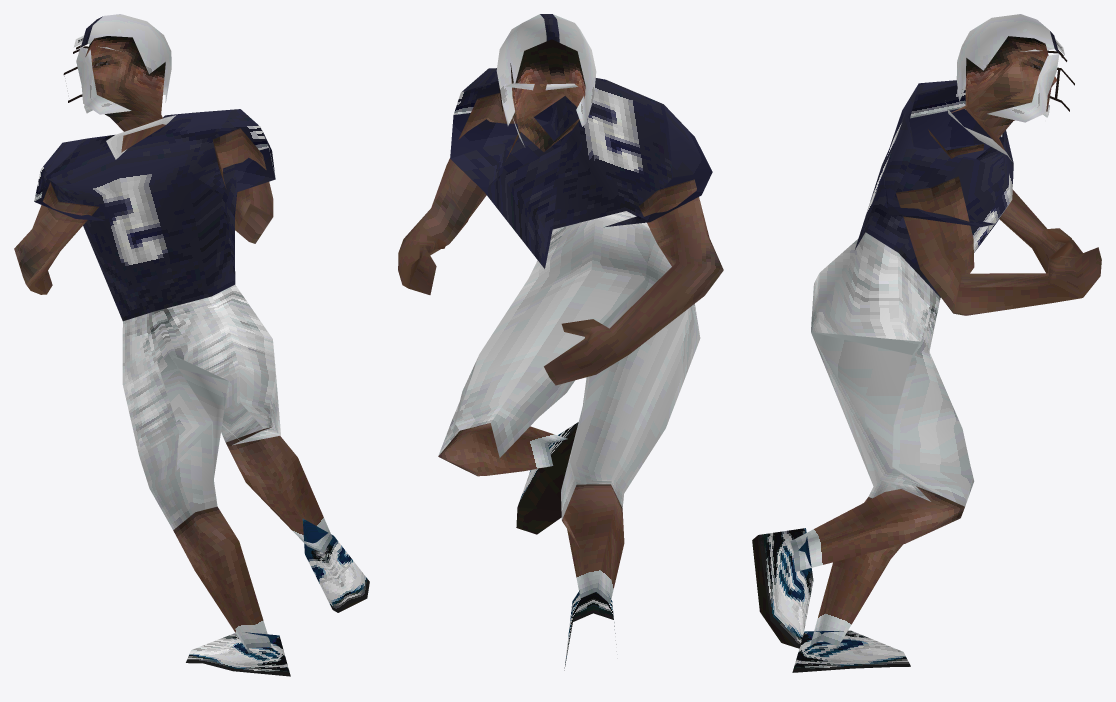
The model's file is ps2_save-icons_ncaagamebreaker2004.glb.
3 renders of one model, left to right at view 1: azimuth 30°, elevation 25°; view 2: azimuth 150°, elevation 25°; view 3: azimuth 270°, elevation 25°, orthographic. The views are drawn at different scales.
Visible parts, largest first — view 1: gbicon.ico; view 2: gbicon.ico; view 3: gbicon.ico.
Boxes of the visible parts, left/top/right/bottom form: gbicon.ico: left=14, top=14, right=369, bottom=676; gbicon.ico: left=398, top=14, right=723, bottom=670; gbicon.ico: left=752, top=14, right=1101, bottom=672.
Bounding box in the file's own units: 1.98 × 4.48 × 2.2.
Materials: 1 (1 with a texture image).
